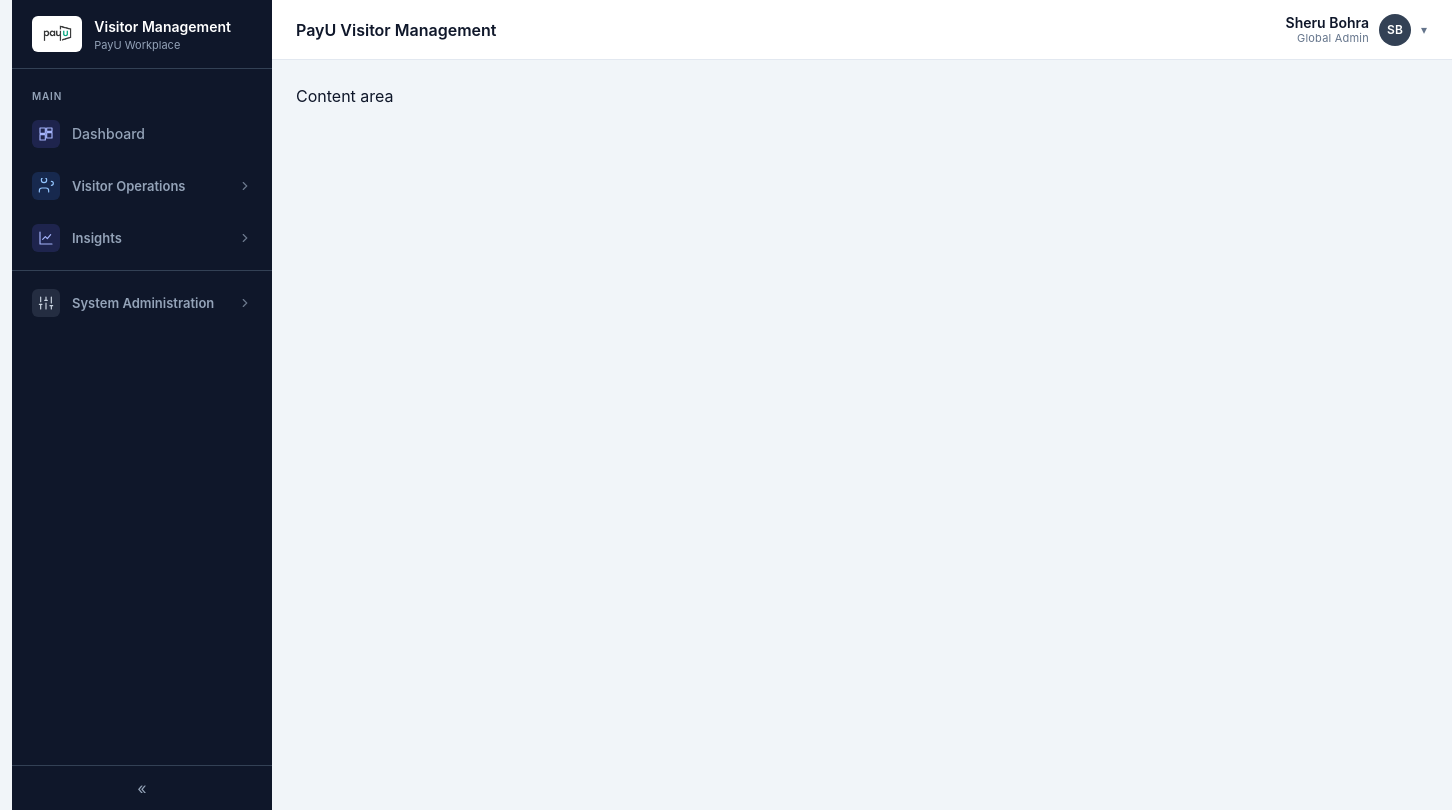
AdminLayout › renders admin shell with navigation
Check: the text "Visitor Management" is shown, box [94,16,231,37]
Check: the text "Dashboard" is shown, box [72,123,145,144]
What coordinates should you click on to do the following:
click the button "Insights"
I would click on:
 (97, 238)
Its box is [12,214,272,262].
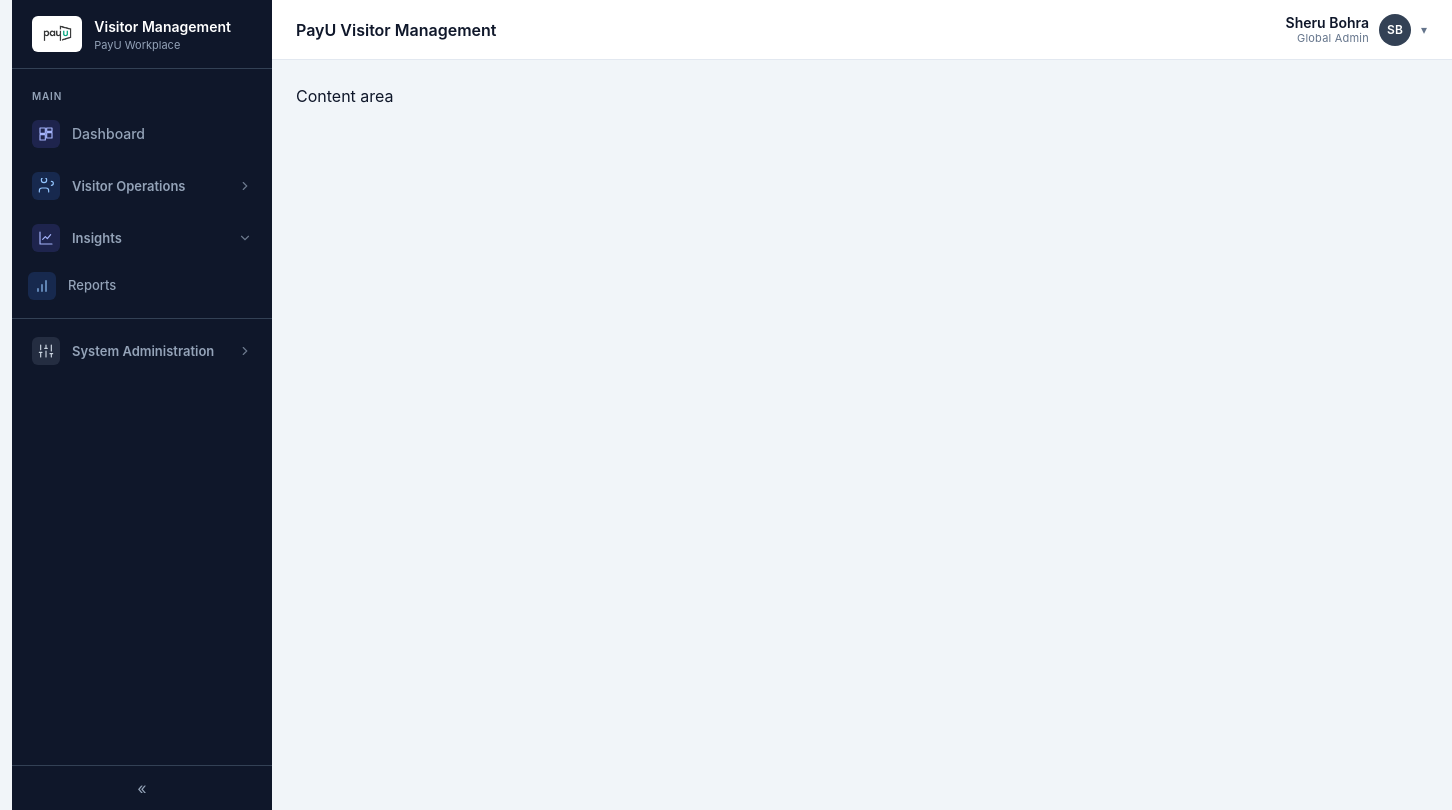
Check: the text "Content area" is shown, box [296,86,394,106]
Check: the text "Reports" is shown, box [68,276,116,295]
